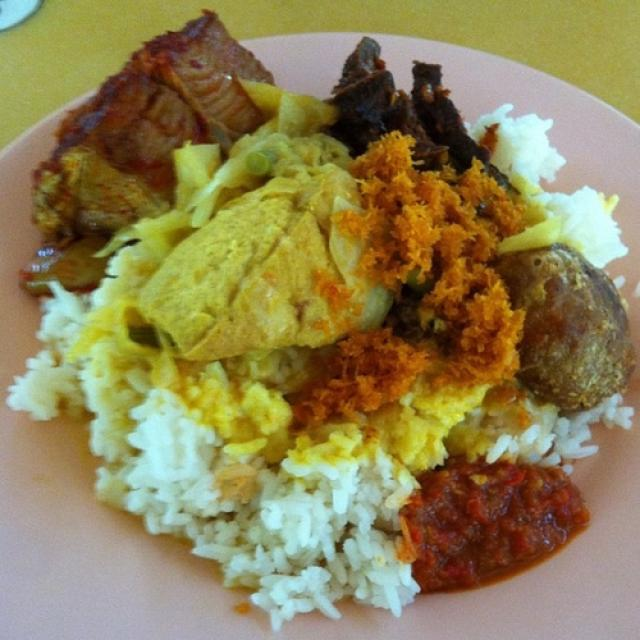米饭主食: (11, 26, 626, 624)
